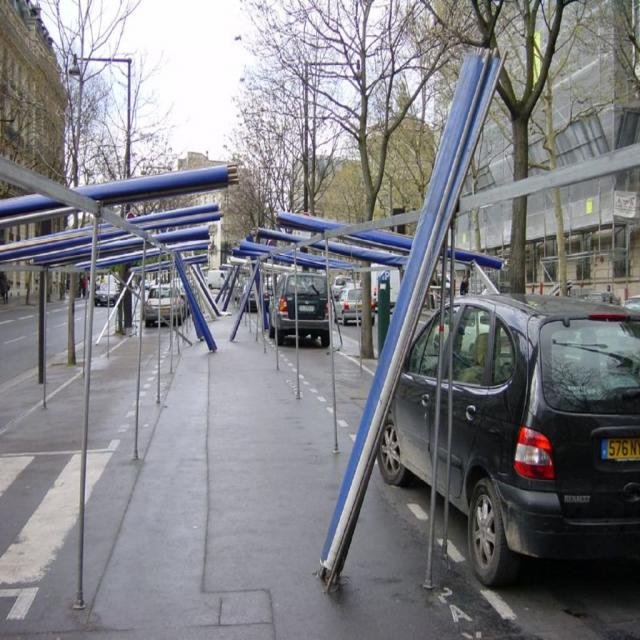other: (334, 290, 630, 596), (270, 270, 330, 346), (336, 286, 376, 326), (146, 285, 183, 323), (241, 275, 270, 310), (92, 279, 122, 303), (168, 274, 190, 306), (330, 274, 351, 298), (264, 274, 279, 290), (236, 274, 250, 289), (138, 278, 152, 288), (351, 280, 360, 288), (156, 274, 162, 284), (130, 279, 133, 290)
